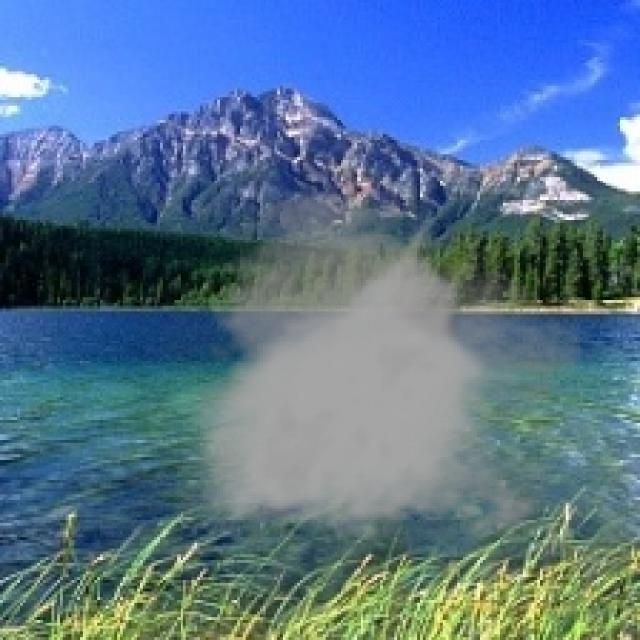Smoke: (177, 185, 583, 546)
